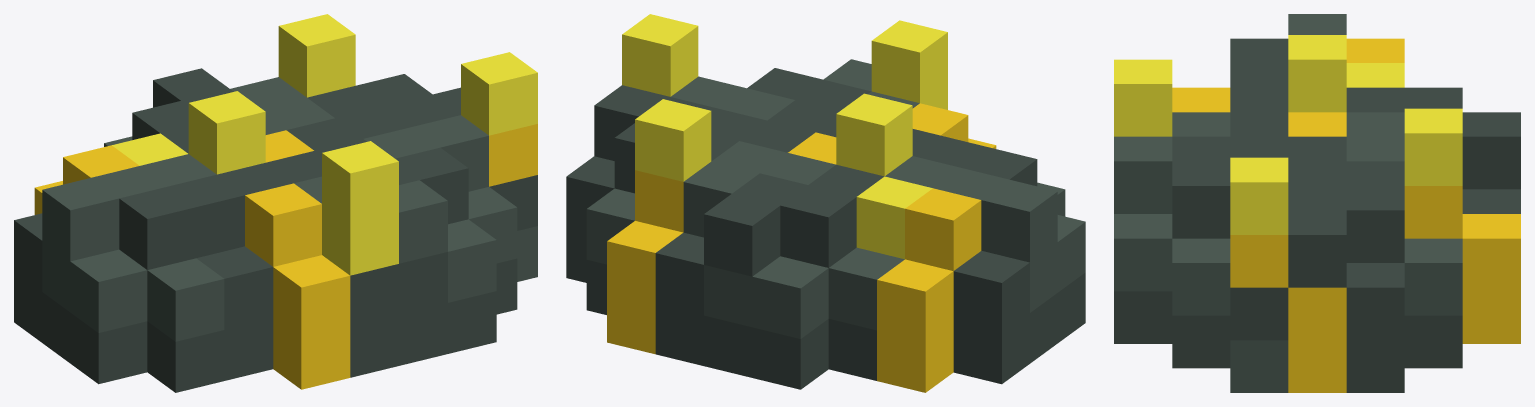
File: GoldDeposit_S.obj
The picture shows the model from 3 angles, left to right: view 1: azimuth 30°, elevation 25°; view 2: azimuth 150°, elevation 25°; view 3: azimuth 270°, elevation 25°; orthographic projection. The views are drawn at different scales.
Parts seen in each view (by area): view 1: GoldDeposit_S; view 2: GoldDeposit_S; view 3: GoldDeposit_S.
Part boxes in pixels (box(x1,y1,x2,y2)): GoldDeposit_S: box(14, 14, 537, 392); GoldDeposit_S: box(566, 14, 1085, 392); GoldDeposit_S: box(1114, 14, 1520, 392).
Bounding box in the file's own units: 0.9 × 0.4 × 0.7.
1 material, 1 textured.
